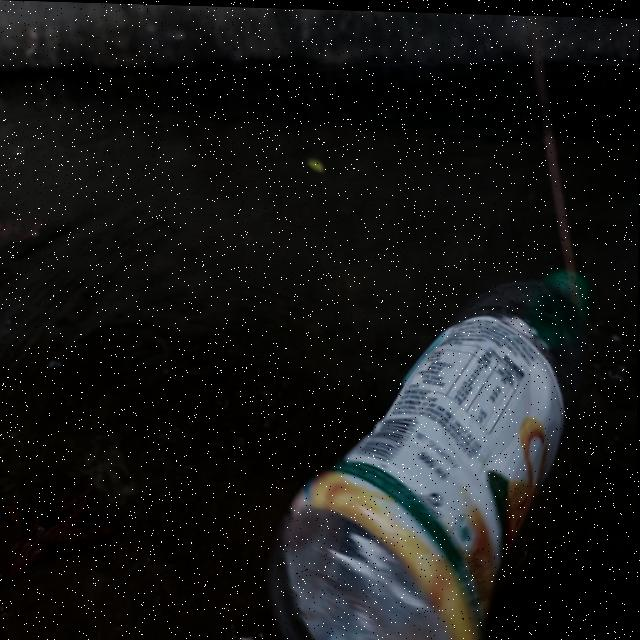leaf: (0, 475, 136, 612)
waterbottle: (261, 242, 613, 640)
